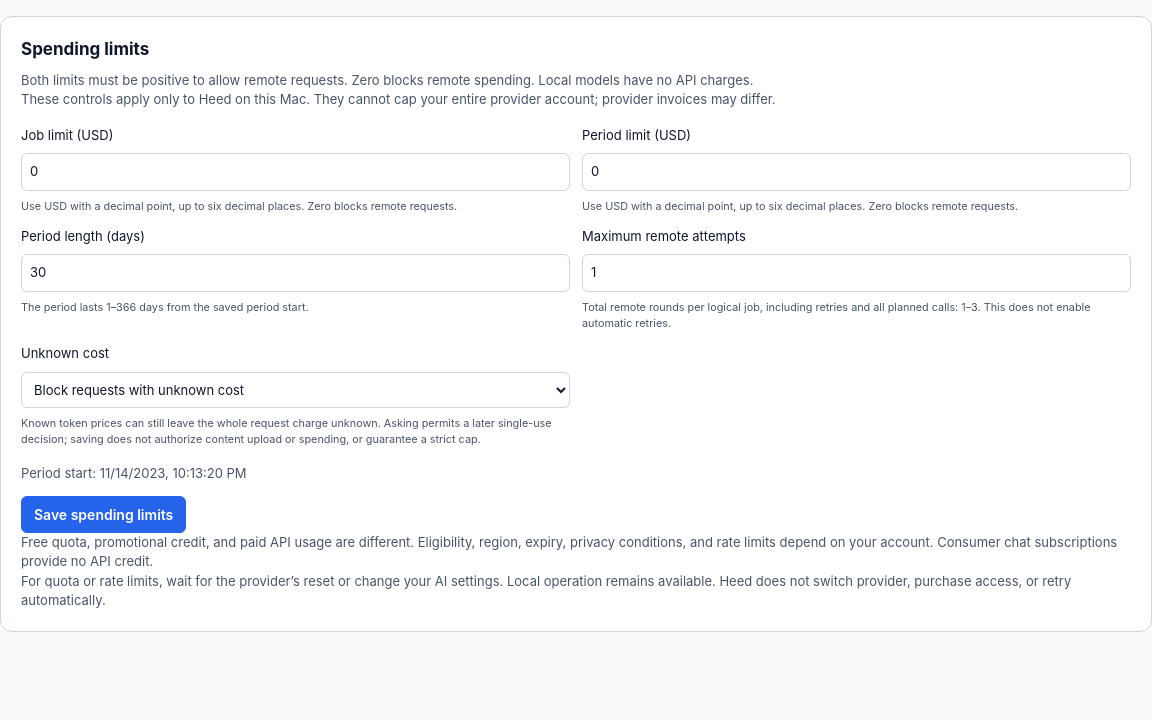
Test: rejects invalid money  with an associated error and focus
Clear the field labelled "Job limit (USD)": (296, 172) [21,153,570,190]
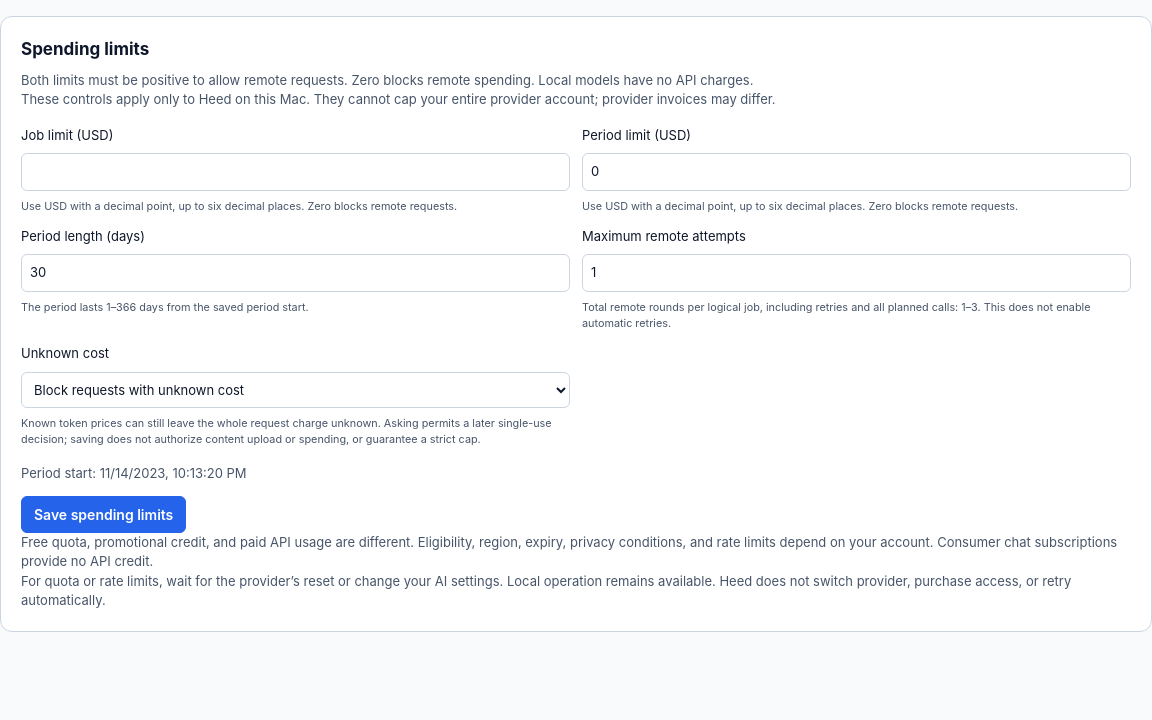
Click the button "Save spending limits": (104, 514) [21,496,186,533]
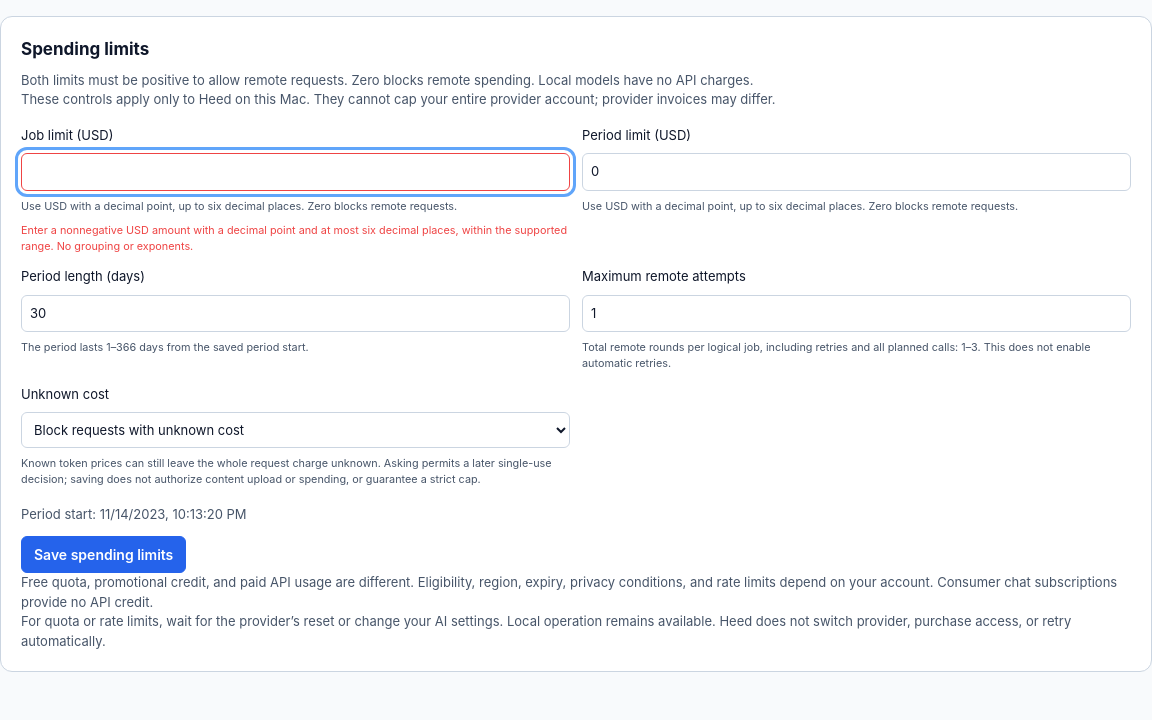
Expected: the message is shown, [21,223,570,255]
